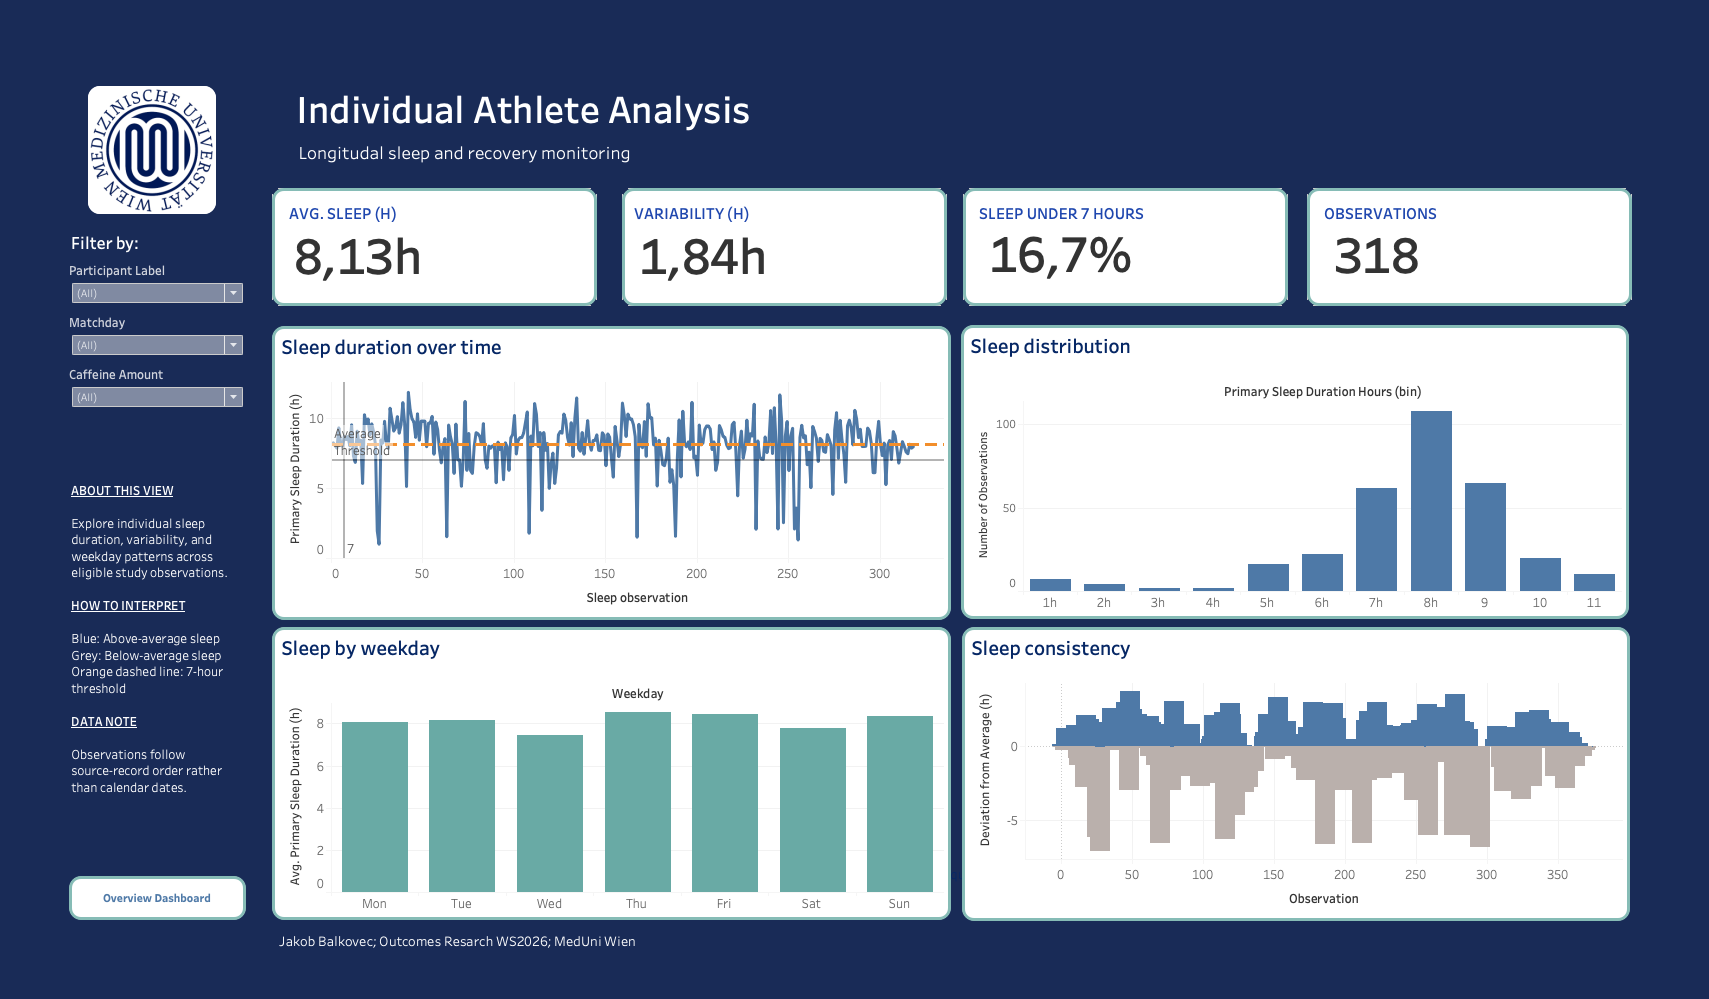

The page's visual inventory and layout, read from the dashboard file:
{"tool":"tableau","page":{"name":"Individual","canvas":[1600,900],"ordinal":0},"visuals":[{"type":"image","param":"/Users/jbalkovec/Desktop/MSc/OutcomesResearch/MUWlogo.png","box":[36,30,128,128]},{"type":"text","box":[242,30,1100,45]},{"type":"text","box":[244,79,519,35]},{"type":"text","box":[235,145,300,24]},{"type":"text","box":[580,145,300,24]},{"type":"text","box":[925,145,300,24]},{"type":"text","box":[1270,145,300,24]},{"type":"worksheet","title":"KPI-Under7Hrs","mark":"Automatic","box":[925,149,173,96]},{"type":"worksheet","title":"KPI-Observations","mark":"Automatic","box":[1273,150,118,92]},{"type":"worksheet","title":"KPI-Indv-MeanSleep","mark":"Automatic","box":[236,151,155,81]},{"type":"worksheet","title":"KPI-Variability","mark":"Automatic","box":[581,151,158,89]},{"type":"text","box":[13,172,185,30]},{"type":"filter","title":"KPI-Indv-MeanSleep","param":"[federated.02j40961im16wf1g5efyn0gvjkn9].[none:participant_label:nk]","box":[13,202,185,52]},{"type":"filter","title":"SleepTimelineChart","param":"[federated.02j40961im16wf1g5efyn0gvjkn9].[none:matchday:nk]","box":[13,254,185,52]},{"type":"text","box":[912,272,662,34]},{"type":"text","box":[223,273,673,34]},{"type":"filter","title":"SleepTimelineChart","param":"[federated.02j40961im16wf1g5efyn0gvjkn9].[none:Calculation_0340912791040004:nk]","box":[13,306,185,52]},{"type":"worksheet","title":"SleepDistributionChart","mark":"Bar","rows":["primary_sleep_duration_hours"],"cols":["Primary Sleep Duration Hours (bin)"],"box":[912,306,662,254]},{"type":"worksheet","title":"SleepTimelineChart","mark":"Line","rows":["primary_sleep_duration_hours"],"box":[223,307,673,254]},{"type":"text","box":[13,358,185,458]},{"type":"text","box":[223,574,673,34]},{"type":"text","box":[913,574,662,34]},{"type":"worksheet","title":"SleepByWeekdayChart","mark":"Bar","rows":["primary_sleep_duration_hours"],"cols":["weekday"],"box":[223,608,673,253]},{"type":"worksheet","title":"SleepConsistencyChart","mark":"Bar","box":[913,608,662,254]},{"type":"text","box":[849,804,636,28]},{"type":"dashboard-object","box":[20,823,171,38]},{"type":"text","box":[225,872,1350,25]}]}

Visuals, with their boxes on the page's 1600x900 design canvas (x1, y1, x2, y2). These are canvas units, not pixel positions in the 1709x999 screenshot, which may show the page scaled, cropped or inside an application window:
image: Rect(36, 30, 164, 158)
text: Rect(242, 30, 1342, 75)
text: Rect(244, 79, 763, 114)
text: Rect(235, 145, 535, 169)
text: Rect(580, 145, 880, 169)
text: Rect(925, 145, 1225, 169)
text: Rect(1270, 145, 1570, 169)
"KPI-Under7Hrs" worksheet: Rect(925, 149, 1098, 245)
"KPI-Observations" worksheet: Rect(1273, 150, 1391, 242)
"KPI-Indv-MeanSleep" worksheet: Rect(236, 151, 391, 232)
"KPI-Variability" worksheet: Rect(581, 151, 739, 240)
text: Rect(13, 172, 198, 202)
"KPI-Indv-MeanSleep" filter: Rect(13, 202, 198, 254)
"SleepTimelineChart" filter: Rect(13, 254, 198, 306)
text: Rect(912, 272, 1574, 306)
text: Rect(223, 273, 896, 307)
"SleepTimelineChart" filter: Rect(13, 306, 198, 358)
"SleepDistributionChart" worksheet (Bar marks): Rect(912, 306, 1574, 560)
"SleepTimelineChart" worksheet (Line marks): Rect(223, 307, 896, 561)
text: Rect(13, 358, 198, 816)
text: Rect(223, 574, 896, 608)
text: Rect(913, 574, 1575, 608)
"SleepByWeekdayChart" worksheet (Bar marks): Rect(223, 608, 896, 861)
"SleepConsistencyChart" worksheet (Bar marks): Rect(913, 608, 1575, 862)
text: Rect(849, 804, 1485, 832)
dashboard-object: Rect(20, 823, 191, 861)
text: Rect(225, 872, 1575, 897)
